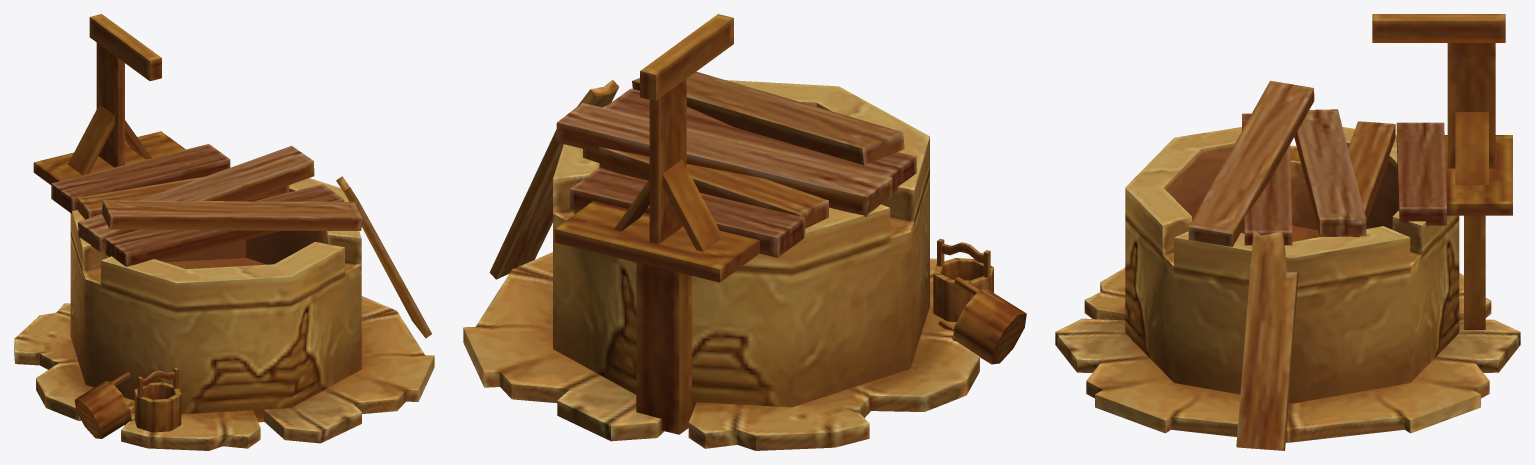
File: Stage_ShaMo_Jing.FBX
The picture shows the model from 3 angles, left to right: view 1: azimuth 30°, elevation 25°; view 2: azimuth 150°, elevation 25°; view 3: azimuth 270°, elevation 25°; orthographic projection. The views are drawn at different scales.
Parts seen in each view (by area): view 1: Stage_ShaMo_Jing; view 2: Stage_ShaMo_Jing; view 3: Stage_ShaMo_Jing.
Boxes of the visible parts, <box> form: Stage_ShaMo_Jing: <box>14,14,434,450</box>; Stage_ShaMo_Jing: <box>463,14,1026,450</box>; Stage_ShaMo_Jing: <box>1055,14,1520,450</box>.
Bounding box in the file's own units: 269 × 200 × 262.
